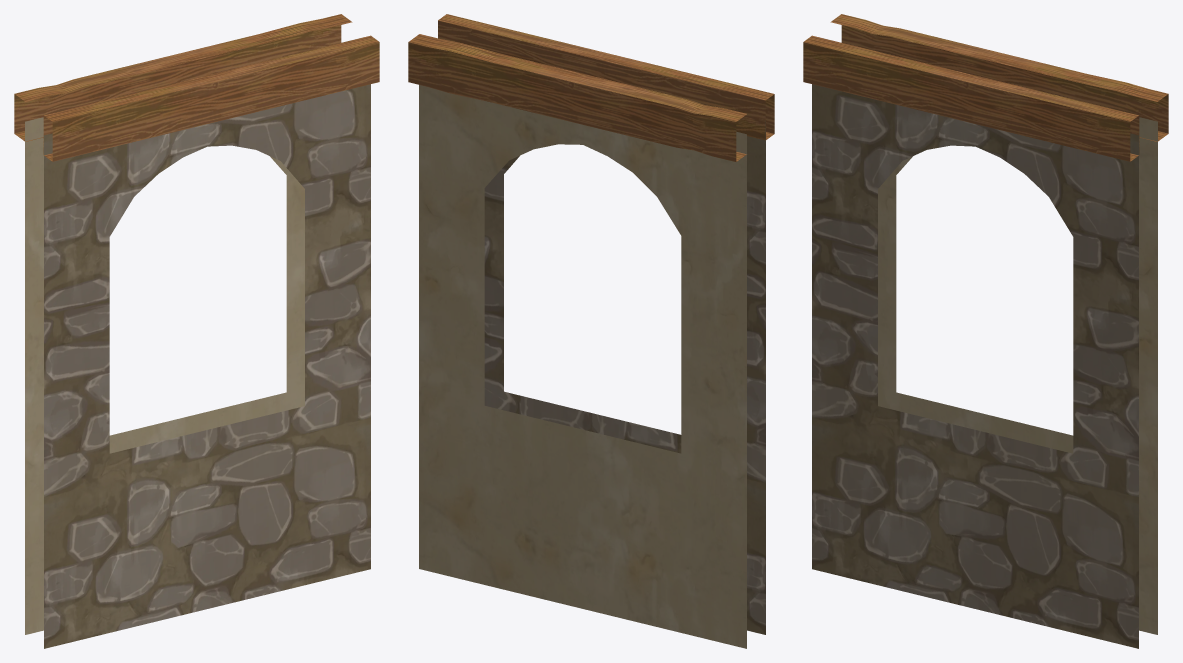
Rendered from Wall_UnevenBrick_Window_Wide_Round.glb.
The picture shows the model from 3 angles, left to right: view 1: azimuth 30°, elevation 25°; view 2: azimuth 150°, elevation 25°; view 3: azimuth 330°, elevation 25°; orthographic projection.
Parts seen in each view (by area): view 1: Wall_UnevenBrick_Window_Wide_Round; view 2: Wall_UnevenBrick_Window_Wide_Round; view 3: Wall_UnevenBrick_Window_Wide_Round.
Boxes of the visible parts, bbox=[...] form: Wall_UnevenBrick_Window_Wide_Round: bbox=[14, 14, 379, 648]; Wall_UnevenBrick_Window_Wide_Round: bbox=[408, 14, 774, 648]; Wall_UnevenBrick_Window_Wide_Round: bbox=[803, 14, 1168, 648].
Size of the model in its own units: 2 by 3.12 by 0.4064.
3 materials, 3 textured.
